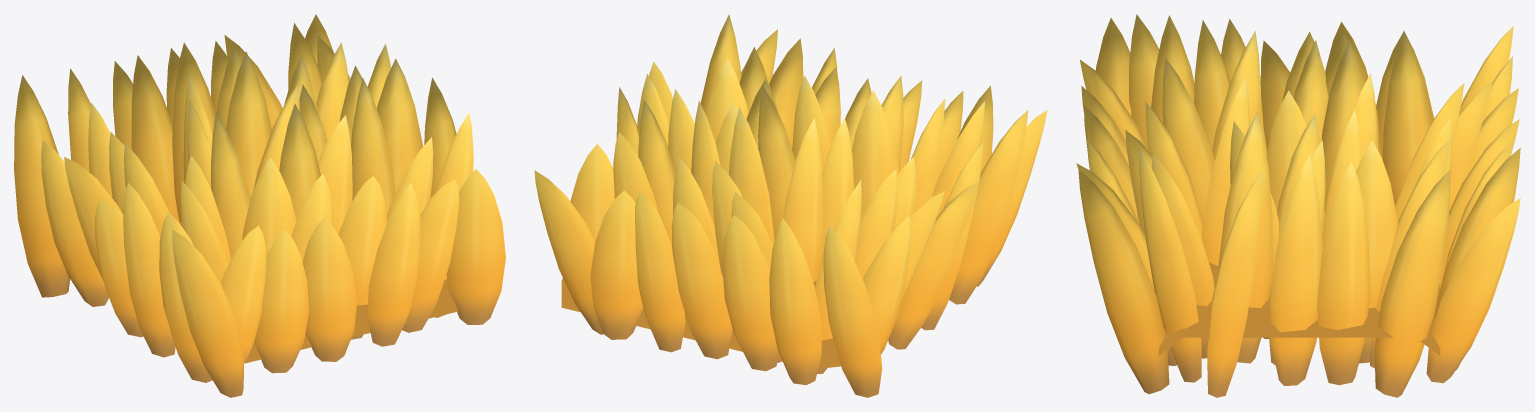
File: grass_end.glb
3 views of the same model, side by side, from view 1: azimuth 30°, elevation 25°; view 2: azimuth 150°, elevation 25°; view 3: azimuth 270°, elevation 25° (orthographic). The views are drawn at different scales.
Parts seen in each view (by area): view 1: grass_end; view 2: grass_end; view 3: grass_end.
Boxes of the visible parts, bbox=[...] form: grass_end: bbox=[14, 14, 505, 397]; grass_end: bbox=[534, 14, 1047, 397]; grass_end: bbox=[1076, 14, 1520, 397].
Bounding box in the file's own units: 1.07 × 0.6643 × 1.07.
Materials: 1 (1 with a texture image).
